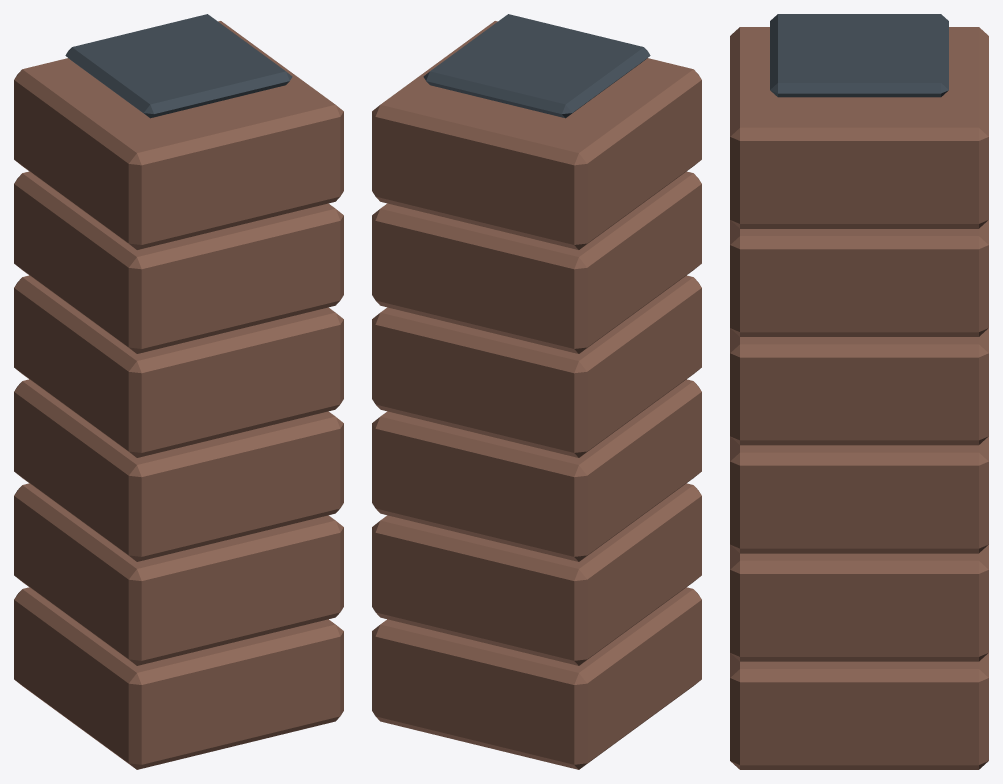
File: SH10_L03_Chimney.fbx
The picture shows the model from 3 angles, left to right: view 1: azimuth 30°, elevation 25°; view 2: azimuth 150°, elevation 25°; view 3: azimuth 270°, elevation 25°; orthographic projection. The views are drawn at different scales.
Visible parts, largest first — view 1: SH10_L03_Chimney; view 2: SH10_L03_Chimney; view 3: SH10_L03_Chimney.
Part boxes in pixels (<box>): SH10_L03_Chimney: <box>14,14,343,769</box>; SH10_L03_Chimney: <box>372,14,701,769</box>; SH10_L03_Chimney: <box>730,14,988,769</box>.
Bounding box in the file's own units: 65 × 186 × 65.
